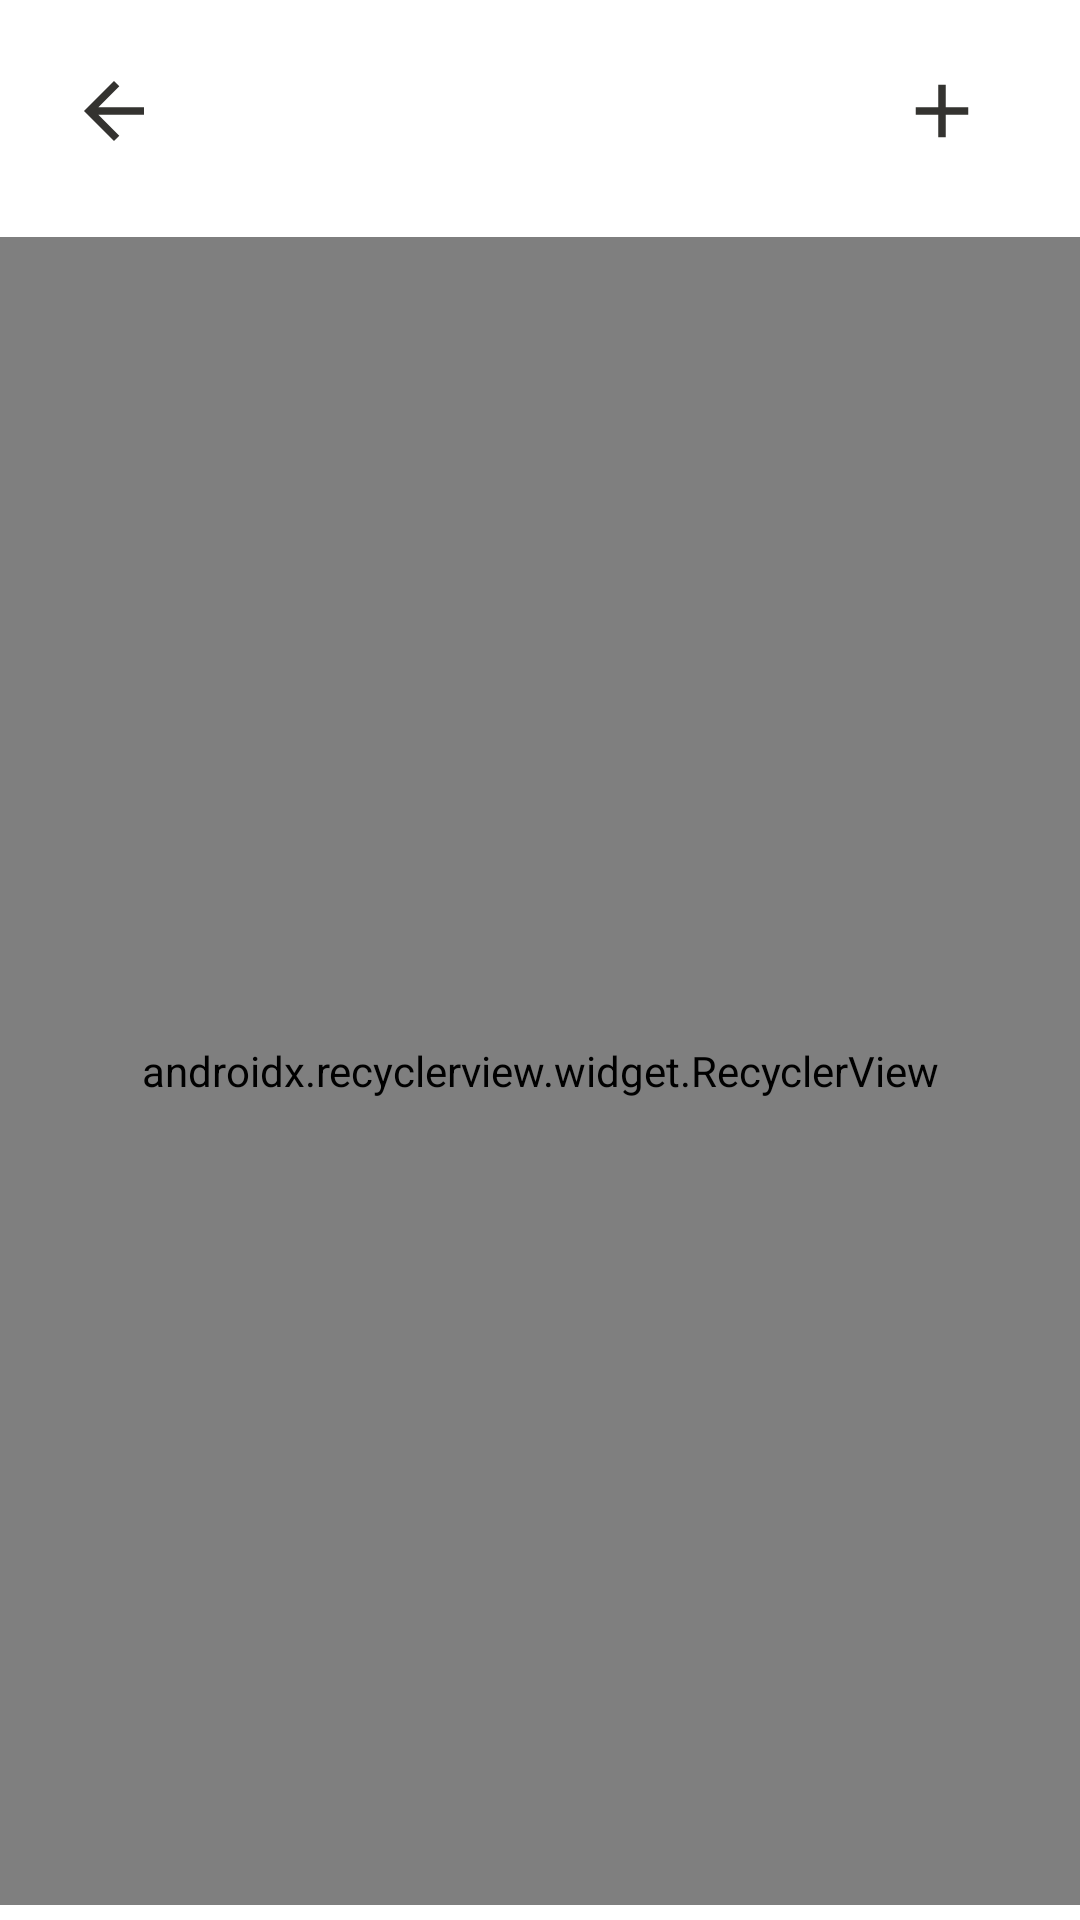

Named icons in this screenshot (1080*1920) and their bounding boxes, (x1, y1, x2, y2):
add: (915, 84, 969, 138)
back: (84, 81, 144, 141)
